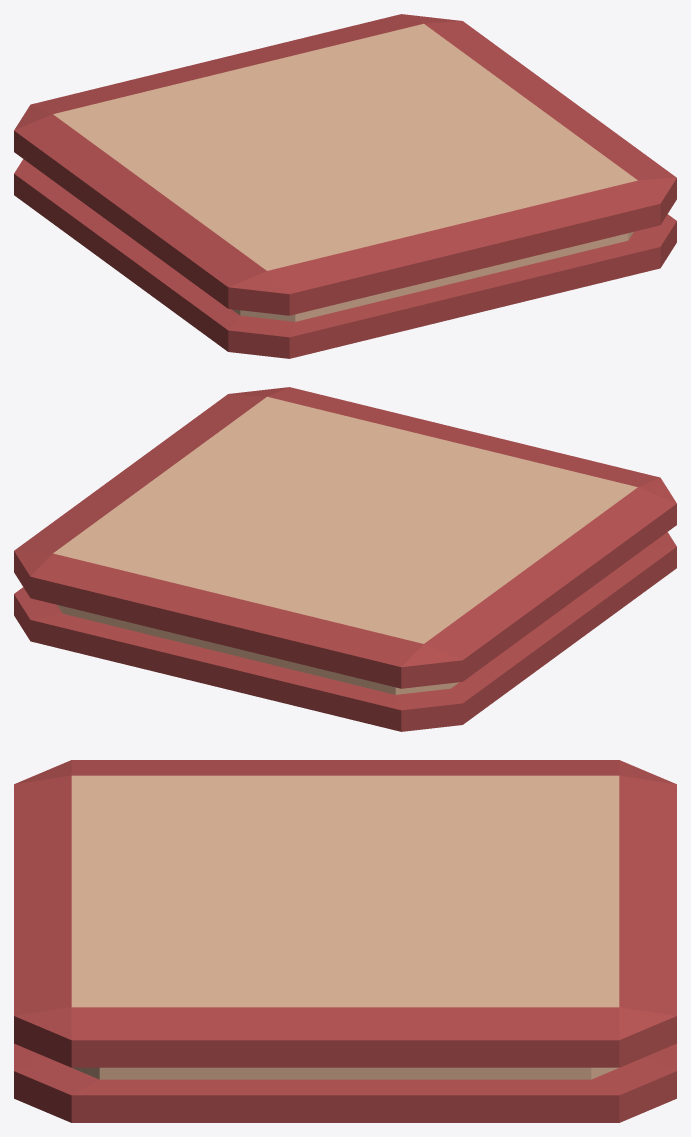
The model's file is SquarePlatform.fbx.
3 renders of one model, top to bottom at view 1: azimuth 30°, elevation 25°; view 2: azimuth 150°, elevation 25°; view 3: azimuth 270°, elevation 25°, orthographic. The views are drawn at different scales.
Visible parts, largest first — view 1: Cube; view 2: Cube; view 3: Cube.
Part boxes in pixels (x1=…): Cube: x1=14, y1=14, x2=676, y2=358; Cube: x1=14, y1=387, x2=676, y2=731; Cube: x1=14, y1=760, x2=676, y2=1122.
Size of the model in its own units: 600 by 100 by 600.
